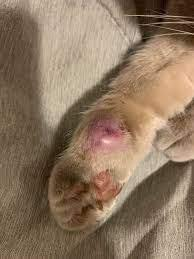lump_and_bump: (88, 115, 129, 149)
